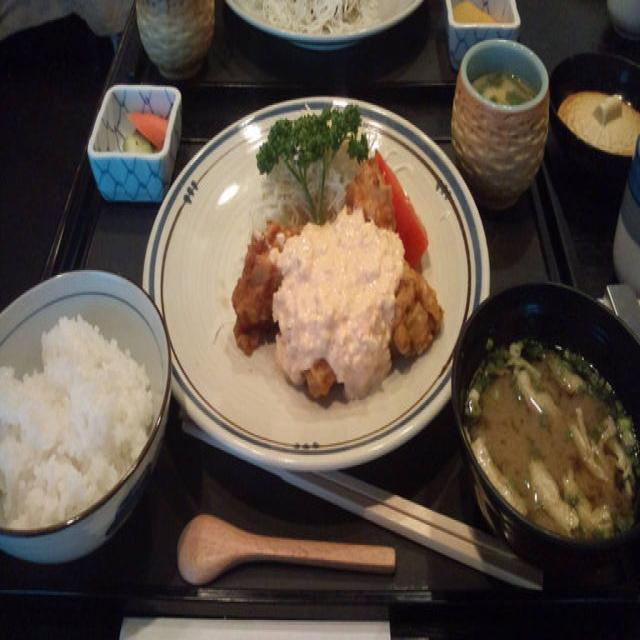汤锅炖物: (448, 320, 640, 533)
米饭主食: (0, 293, 156, 525)
鸡蛋料理: (460, 40, 542, 138)
